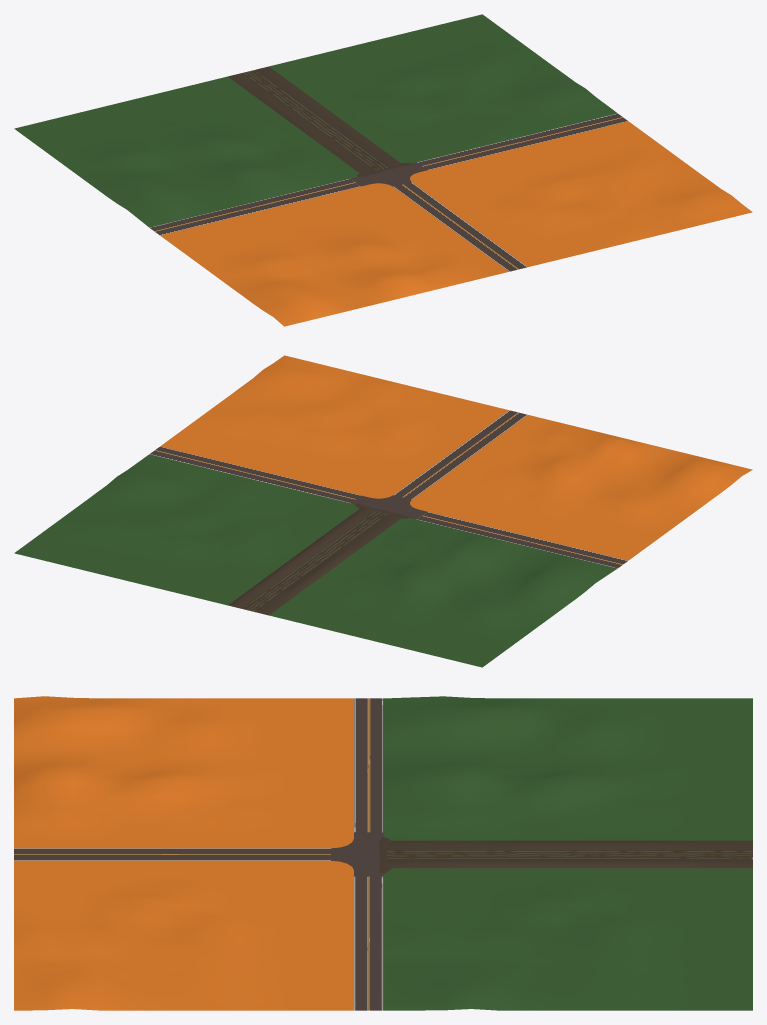
The model's file is TileForestDesert1.fbx.
The picture shows the model from 3 angles, top to bottom: view 1: azimuth 30°, elevation 25°; view 2: azimuth 150°, elevation 25°; view 3: azimuth 270°, elevation 25°; orthographic projection. The views are drawn at different scales.
Visible parts, largest first — view 1: Plane.054, Plane.052, Plane.053, Road.012, Road.013, Road.011, Road.014, Road1.023; view 2: Plane.054, Plane.052, Plane.053, Road.013, Road.012, Road.011, Road.014, Road1.023; view 3: Plane.054, Plane.052, Plane.053, Road.011, Road.012, Road.013, Road.014, Road1.023.
Part boxes in pixels (x1,y1,x2,y2): Plane.054: (14,14,617,227); Plane.052: (160,121,752,326); Plane.053: (228,66,412,176); Road.012: (417,113,627,170); Road.013: (149,178,360,235); Road.011: (393,182,527,271); Road.014: (241,70,388,171); Road1.023: (350,162,426,186); Plane.054: (14,454,616,667); Plane.052: (160,355,752,560); Plane.053: (228,503,408,615); Road.013: (417,511,627,568); Road.012: (150,446,360,503); Road.011: (393,410,527,499); Road.014: (241,511,388,611); Road1.023: (350,495,426,519); Plane.054: (383,696,752,1010); Plane.052: (14,696,353,1010); Plane.053: (379,837,752,873); Road.011: (14,848,330,860); Road.012: (354,876,383,1010); Road.013: (354,698,383,832); Road.014: (387,850,752,859); Road1.023: (331,832,383,876).
Size of the model in its own units: 20008 by 322 by 20000.
